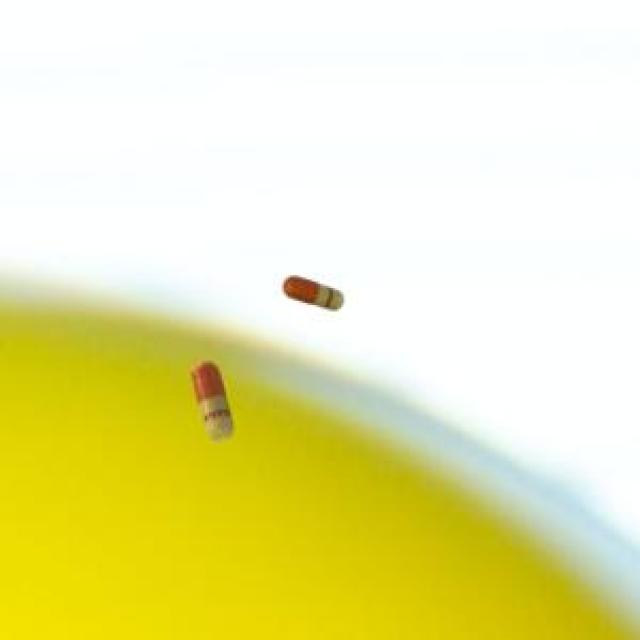Alaxan: (274, 262, 364, 325), (188, 348, 246, 444)
